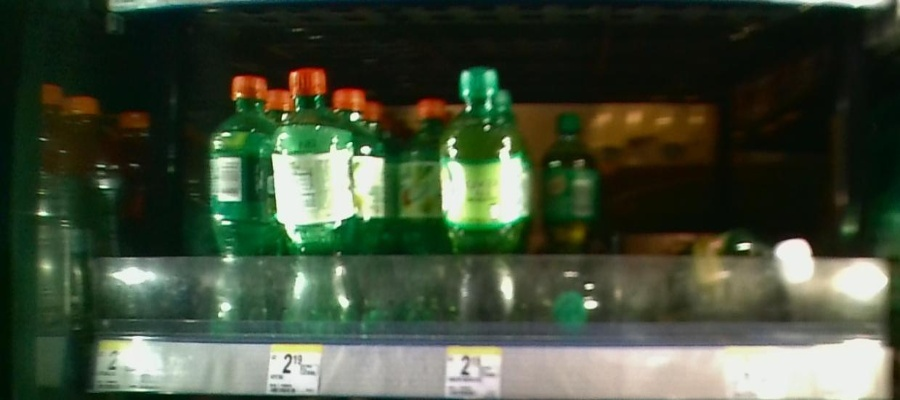bottle: (276, 65, 361, 328), (446, 64, 528, 332), (208, 70, 275, 327), (543, 107, 604, 318), (393, 84, 441, 314)
